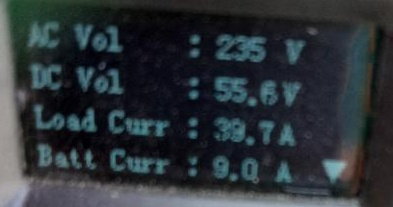NoClampMeter_Display: (0, 0, 393, 207)
